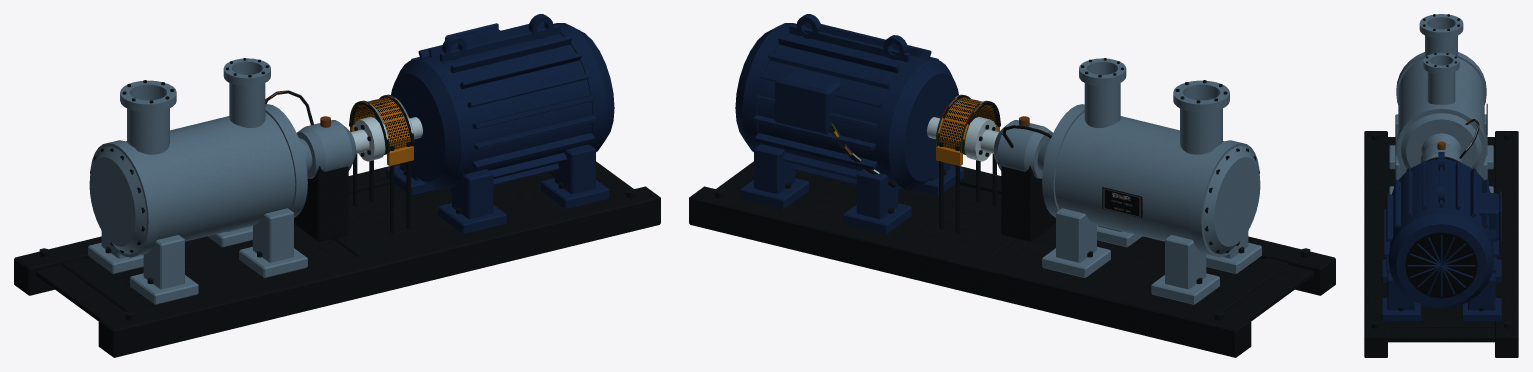
The model's file is assembled.obj.
3 renders of one model, left to right at view 1: azimuth 30°, elevation 25°; view 2: azimuth 150°, elevation 25°; view 3: azimuth 270°, elevation 25°, orthographic. The views are drawn at different scales.
Visible parts, largest first — view 1: motor_feed_pump; view 2: motor_feed_pump; view 3: motor_feed_pump.
Boxes of the visible parts, x1,y1,x2,y2 form: motor_feed_pump: (14, 14, 660, 357); motor_feed_pump: (689, 14, 1335, 357); motor_feed_pump: (1364, 14, 1518, 357).
Bounding box in the file's own units: 5.3 × 1.94 × 1.68.
